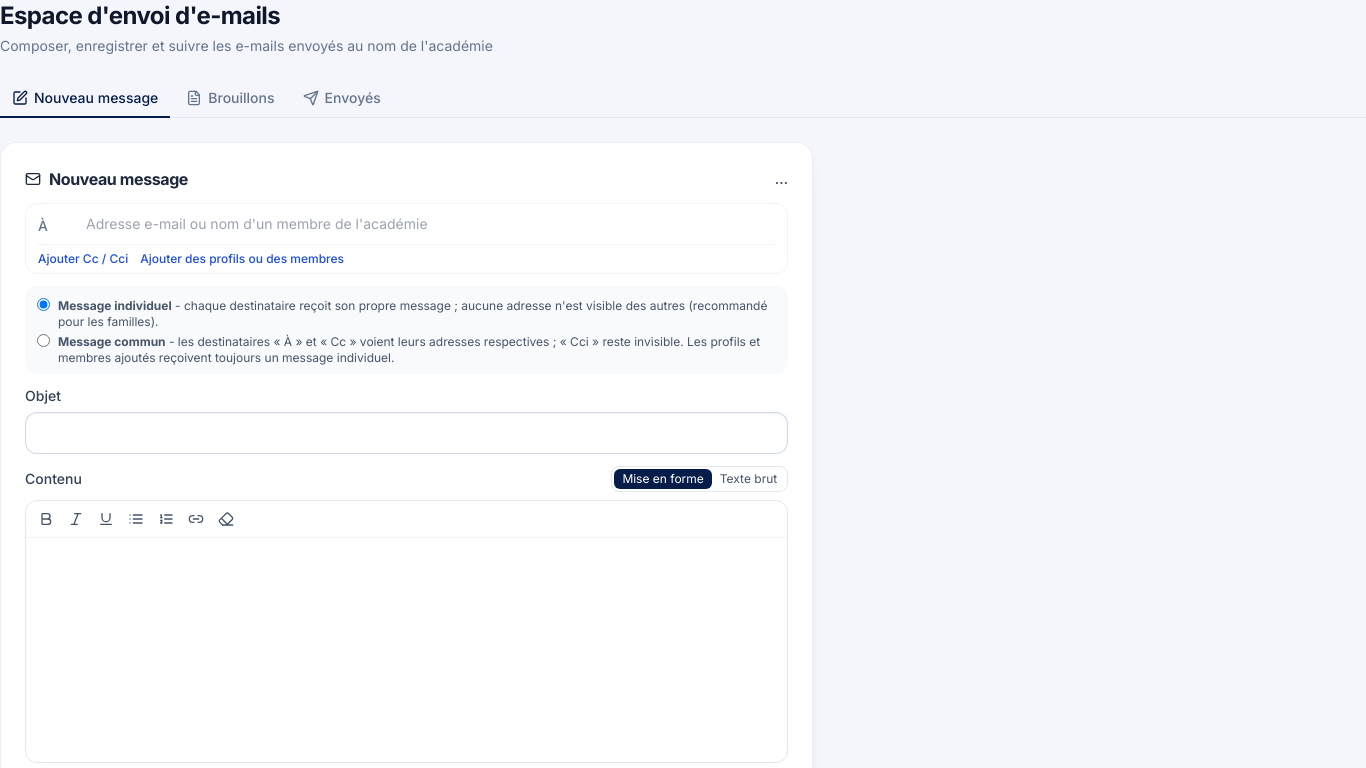
Test: Espace d'envoi d'e-mails › décocher un parent l'exclut des règles envoyées
Click the button with test id "voir-groupes" at (242, 259), box [140,251,344,267]
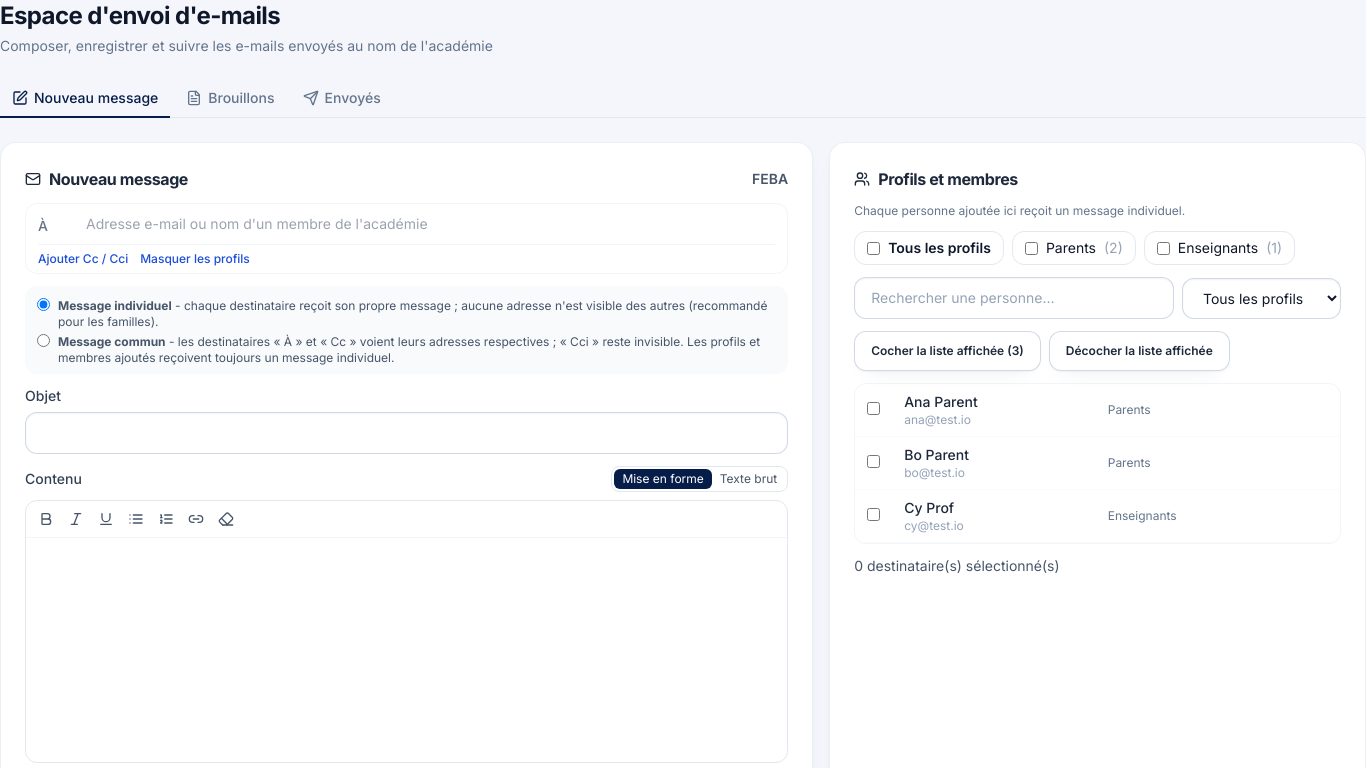
Click the button with test id "format-texte" at (748, 479), box [712,469,785,489]
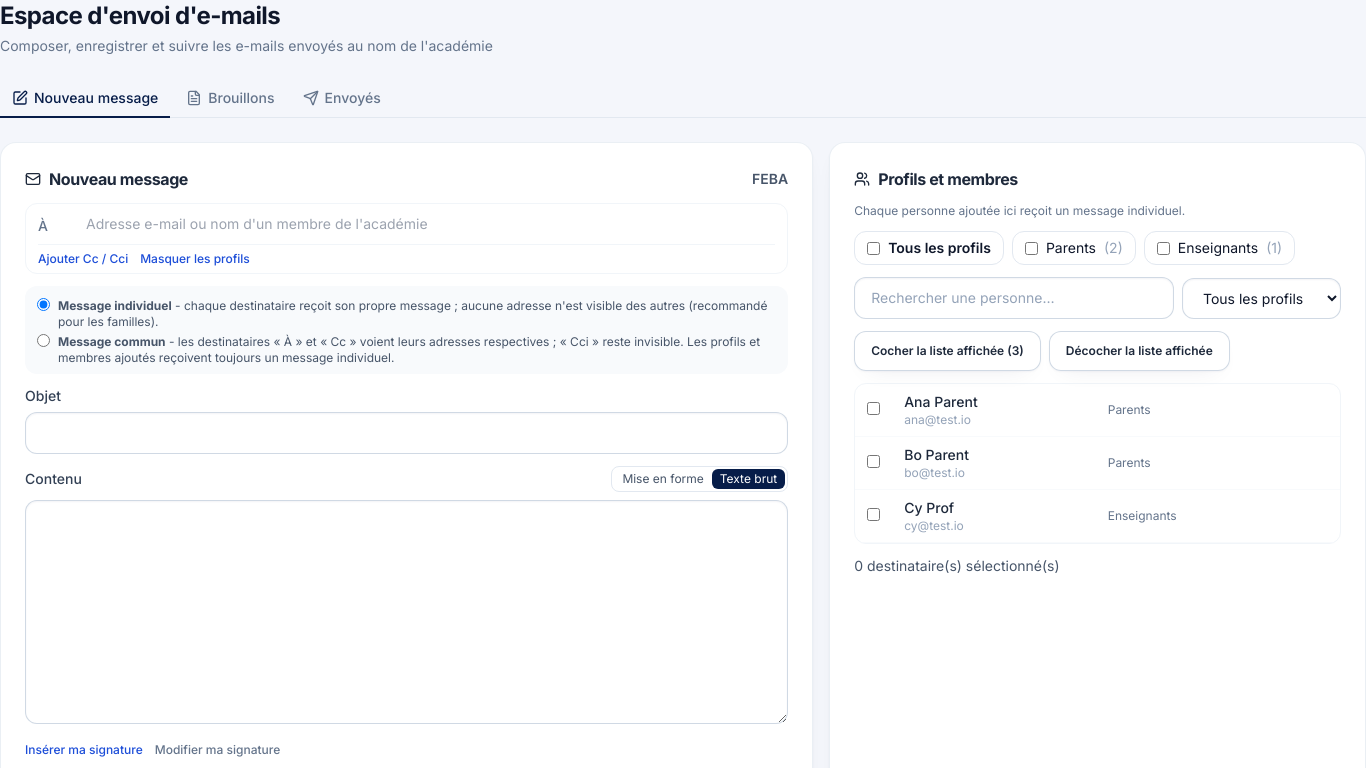
Click the checkbox labelled "Parents (2)" at (1031, 248), box [1025,242,1038,254]
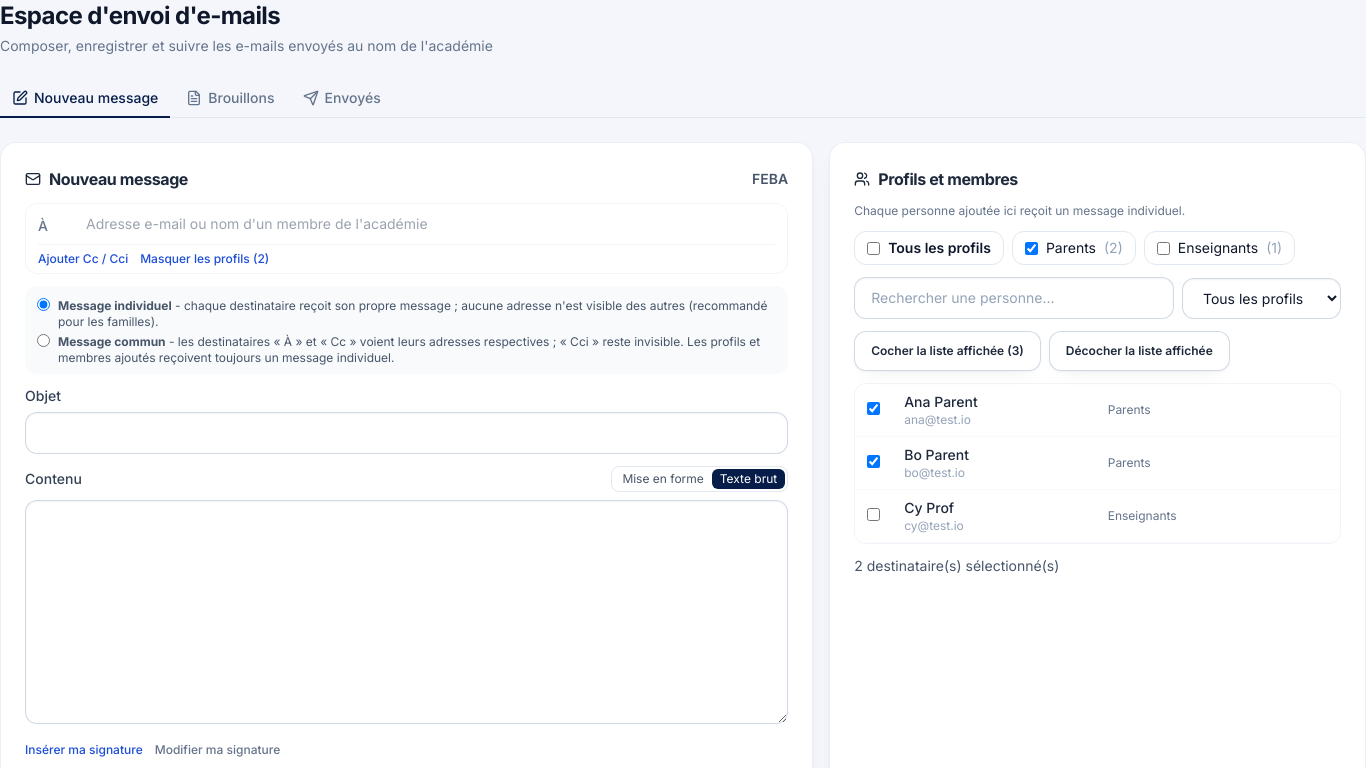
Type "Réunion" into the field labelled "Objet" at (407, 433), box [25,412,788,454]
Type "Lundi 18 h." into the text box labelled "Contenu" at (407, 612), box [25,500,788,724]
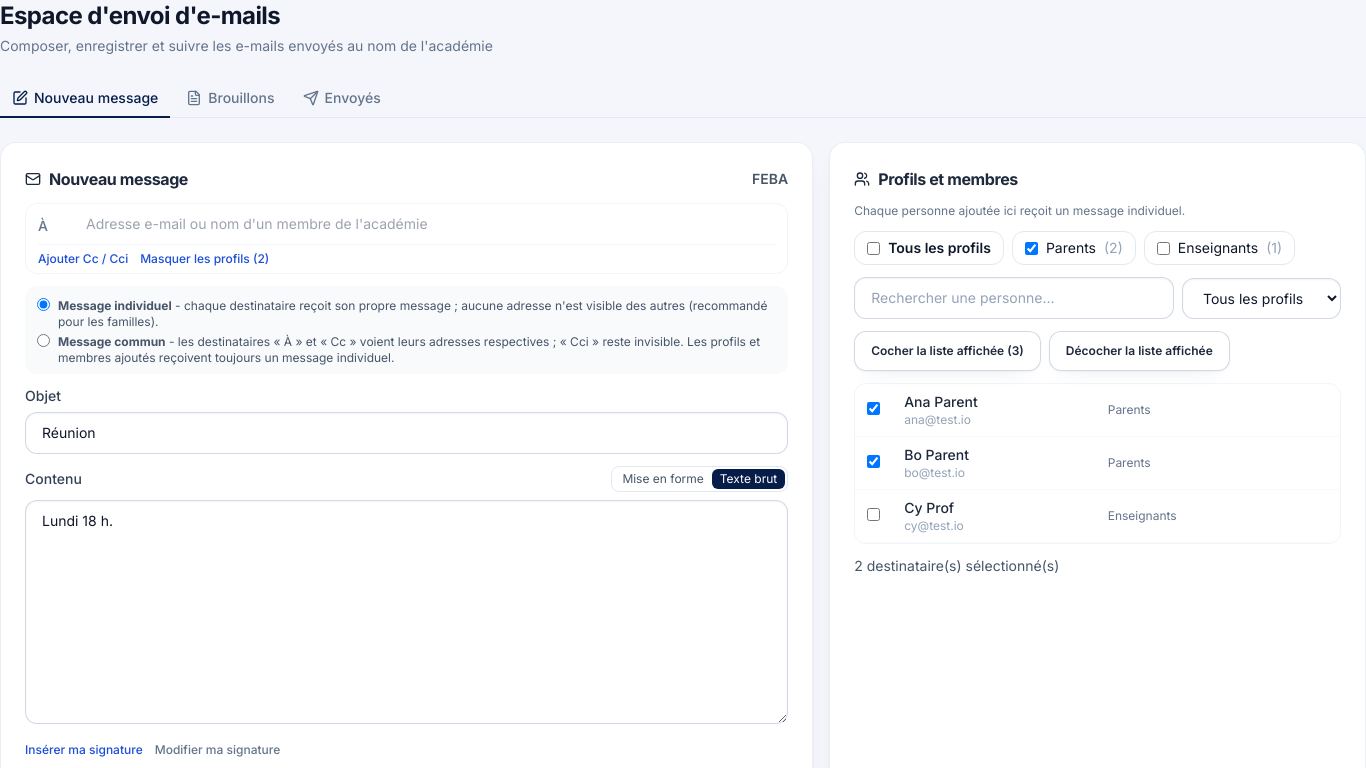
Click the checkbox named "Sélectionner Ana Parent" at (874, 408), box [867,402,880,415]
(page scrolled)
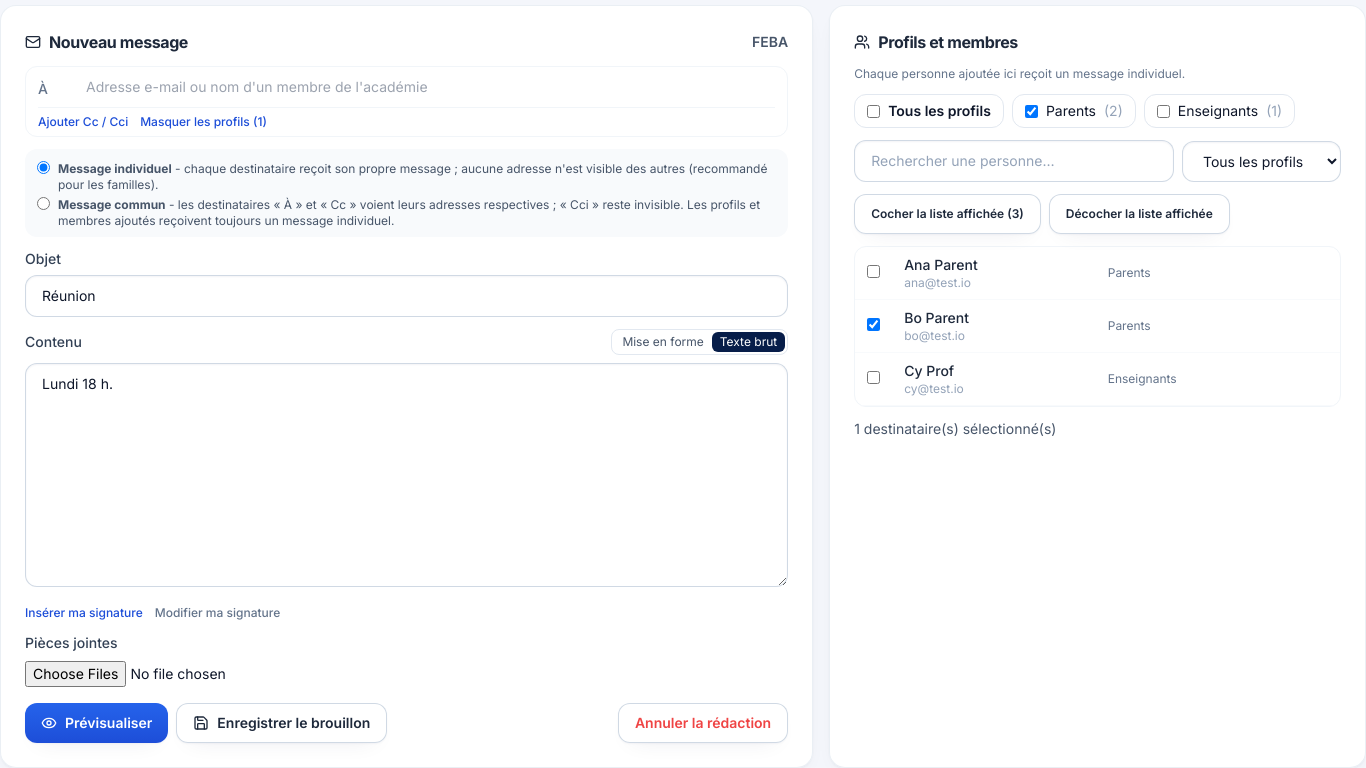
Click the button "Prévisualiser" at (97, 723), box [25,703,168,743]
(page scrolled)
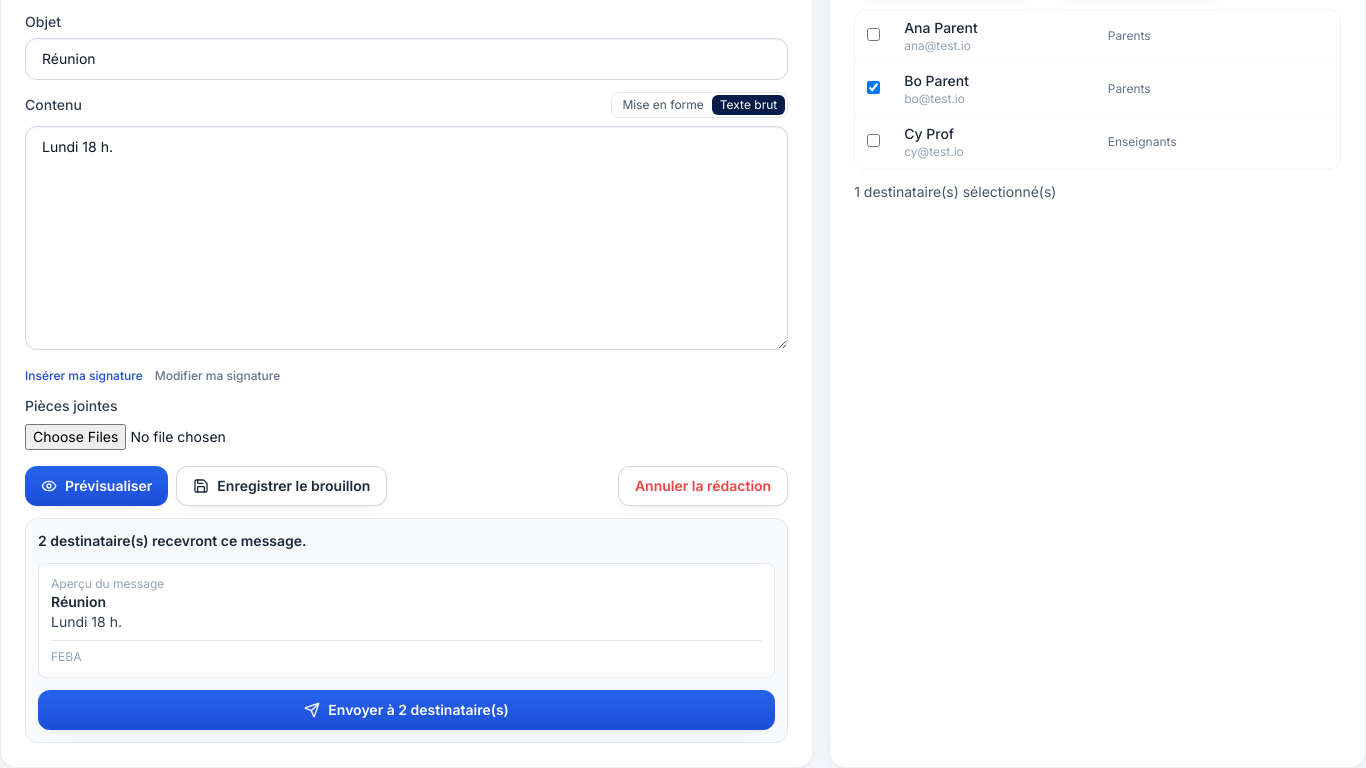
Check: the button "Envoyer à 2 destinataire(s)" is shown, box [38,690,775,730]
